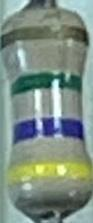Blue: (9, 114, 84, 146)
Green: (9, 68, 82, 99)
Side-Silver: (0, 26, 88, 51)
Yellow: (8, 159, 92, 187)
